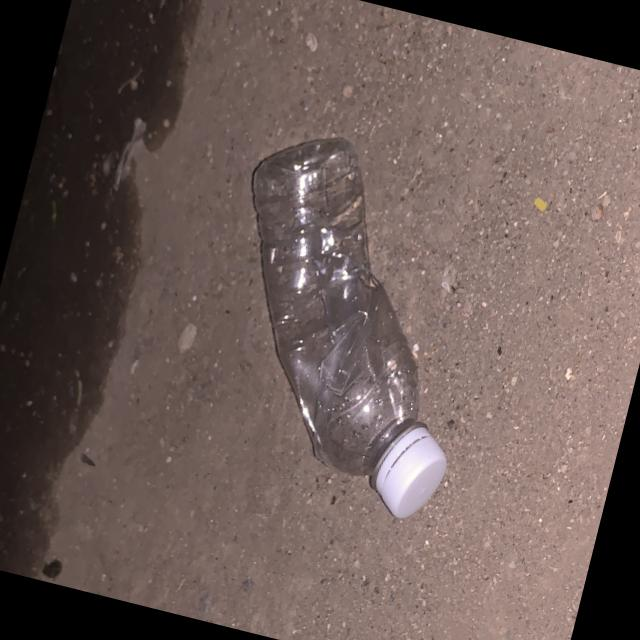Bottle: (250, 137, 445, 517)
